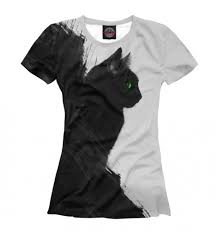cat: (84, 45, 146, 111)
